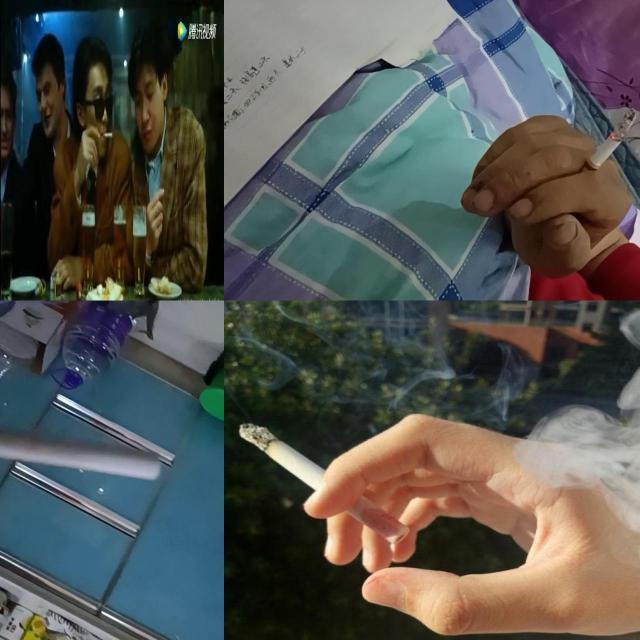smoke: (236, 422, 412, 546), (0, 418, 162, 482), (575, 109, 637, 190), (102, 122, 115, 140)
